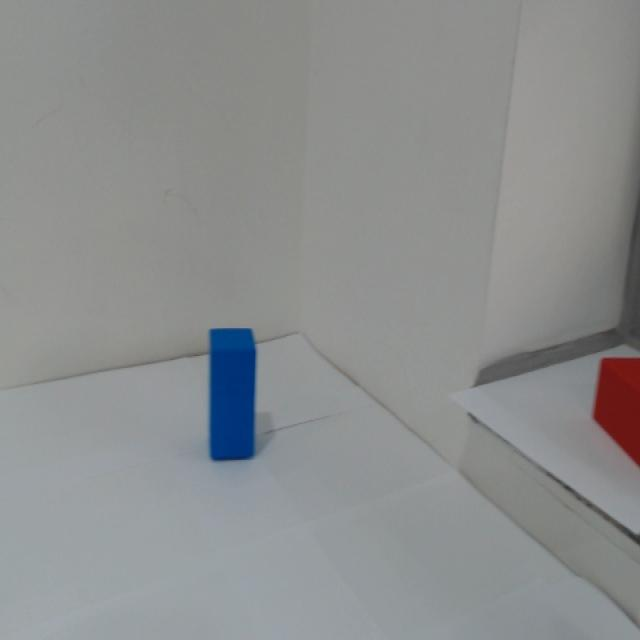cube: (189, 312, 265, 484)
